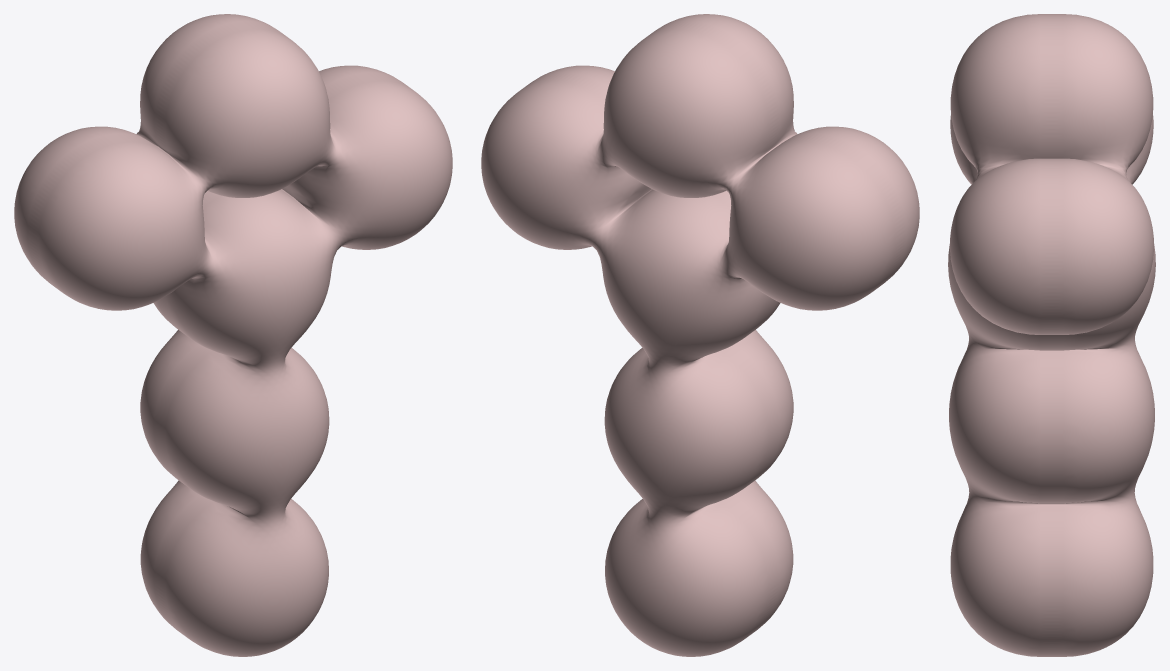
File: textured-human.glb
The picture shows the model from 3 angles, left to right: view 1: azimuth 30°, elevation 25°; view 2: azimuth 150°, elevation 25°; view 3: azimuth 270°, elevation 25°; orthographic projection.
Parts seen in each view (by area): view 1: groupNumber_0; view 2: groupNumber_0; view 3: groupNumber_0.
Part boxes in pixels (box(x1,y1,x2,y2)): groupNumber_0: box(14, 14, 452, 656); groupNumber_0: box(481, 14, 919, 656); groupNumber_0: box(948, 14, 1155, 656).
Size of the model in its own units: 0.00719 by 0.0106 by 0.00318.
